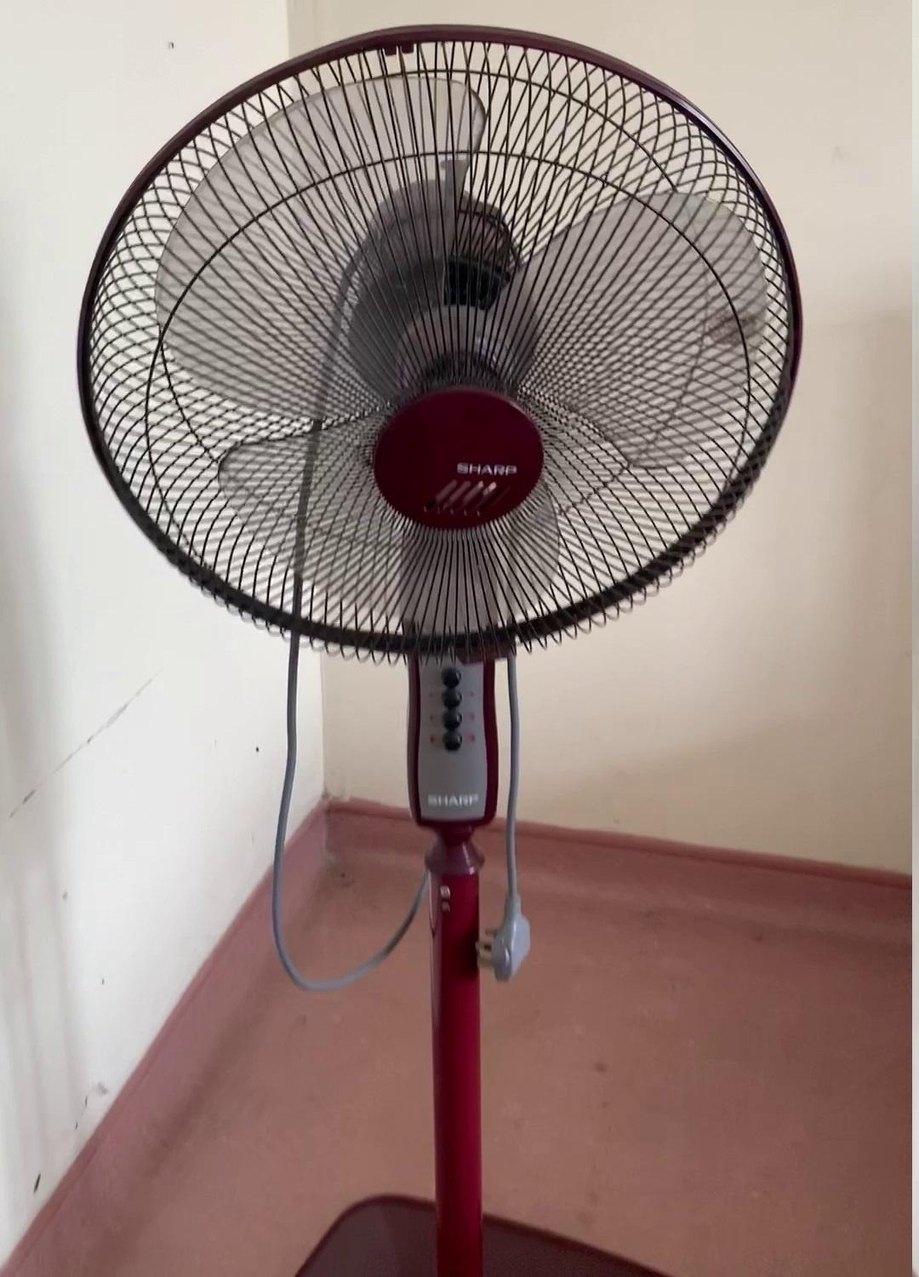fan: (52, 27, 809, 1277)
